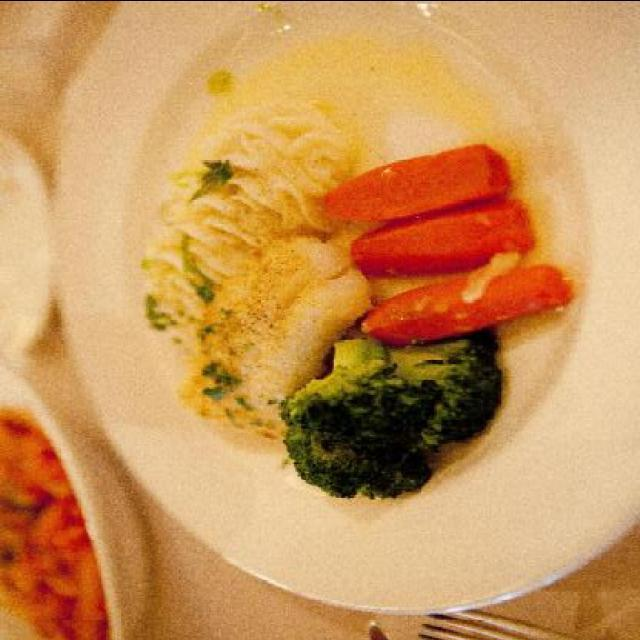Broccoli: (282, 338, 444, 500), (385, 330, 503, 446)
